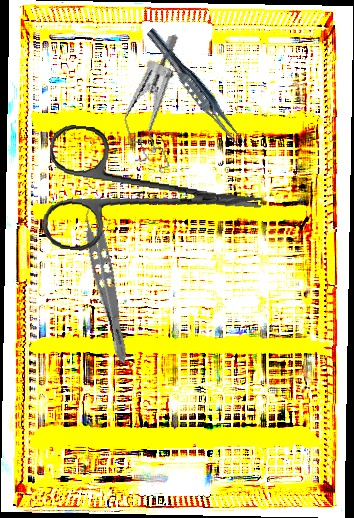Iris Scissors: (40, 123, 268, 269)
Speculum: (102, 33, 214, 181)
Tissue Forceps: (141, 25, 251, 152), (75, 198, 142, 365)
